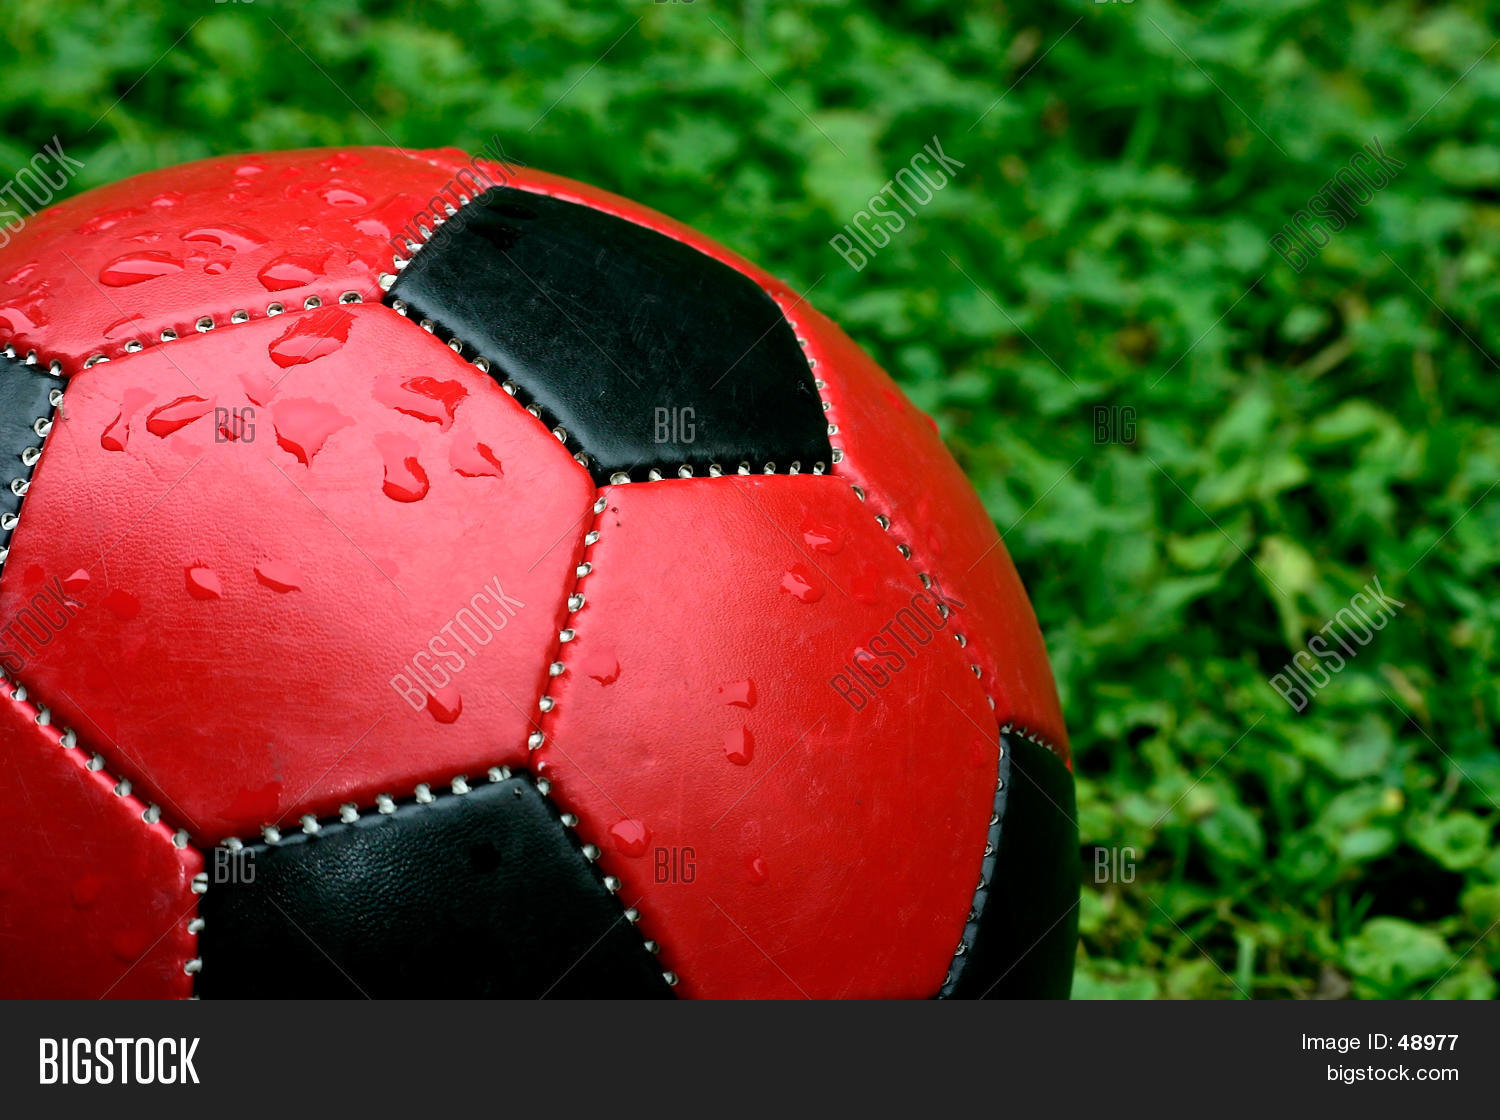red ball: (12, 145, 1080, 994)
